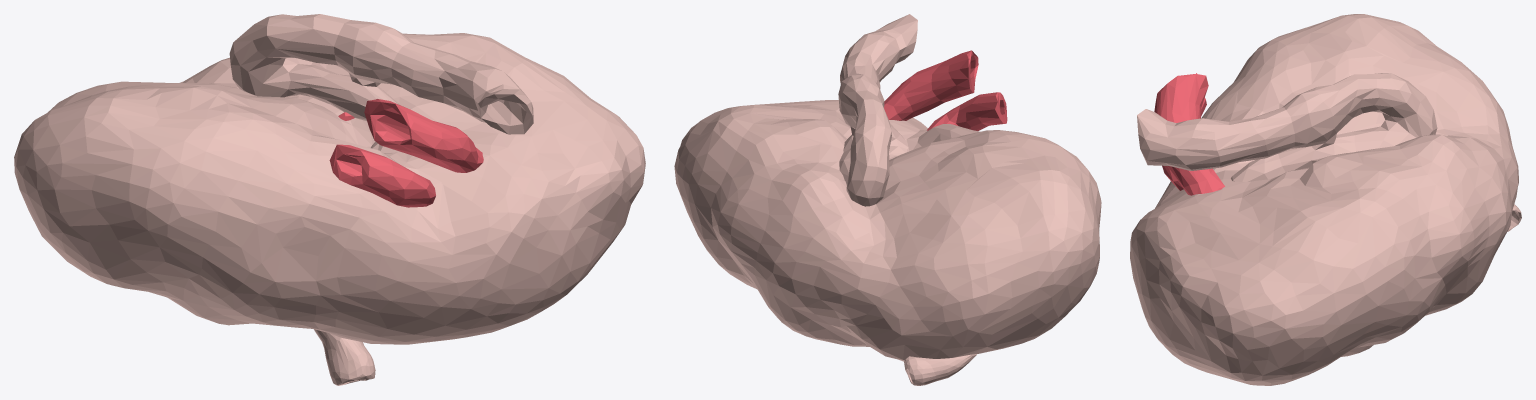
Rendered from NIH_M_Lymph_Node_0.2.glb.
3 views of the same model, side by side, from view 1: azimuth 30°, elevation 25°; view 2: azimuth 150°, elevation 25°; view 3: azimuth 270°, elevation 25° (orthographic). The views are drawn at different scales.
Visible parts, largest first — view 1: Yao_capsule_of_lymph_node, Yao_efferent_lymph_node, Yao_blood_vasculature, Yao_afferent_lymphatic_vessel; view 2: Yao_capsule_of_lymph_node, Yao_efferent_lymph_node, Yao_blood_vasculature, Yao_afferent_lymphatic_vessel; view 3: Yao_capsule_of_lymph_node, Yao_efferent_lymph_node, Yao_blood_vasculature.
Boxes of the visible parts, x1,y1,x2,y2 form: Yao_capsule_of_lymph_node: (14, 33, 645, 344); Yao_efferent_lymph_node: (229, 14, 533, 152); Yao_blood_vasculature: (329, 99, 483, 207); Yao_afferent_lymphatic_vessel: (314, 329, 375, 385); Yao_capsule_of_lymph_node: (674, 100, 1101, 361); Yao_efferent_lymph_node: (838, 14, 917, 206); Yao_blood_vasculature: (884, 50, 1007, 130); Yao_afferent_lymphatic_vessel: (904, 354, 976, 385); Yao_capsule_of_lymph_node: (1130, 14, 1518, 385); Yao_efferent_lymph_node: (1137, 73, 1437, 181); Yao_blood_vasculature: (1154, 73, 1224, 195).
Size of the model in its own units: 0.0183 by 0.0107 by 0.013.
